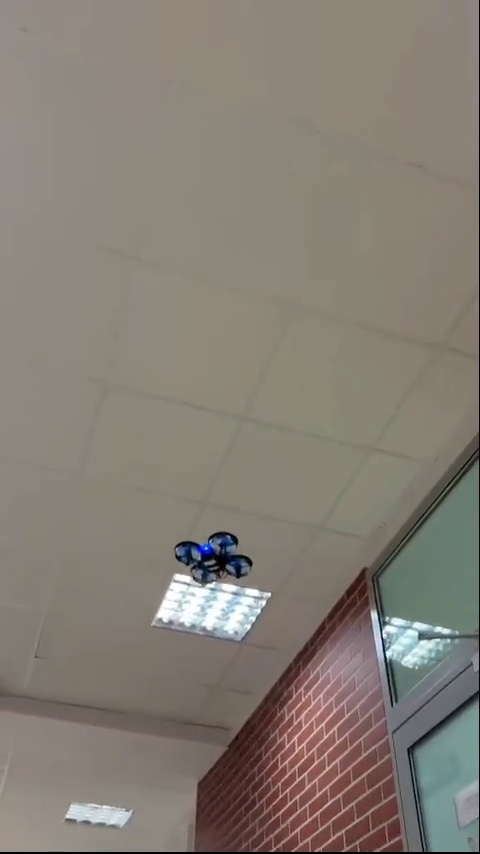drone: (174, 532, 246, 587)
